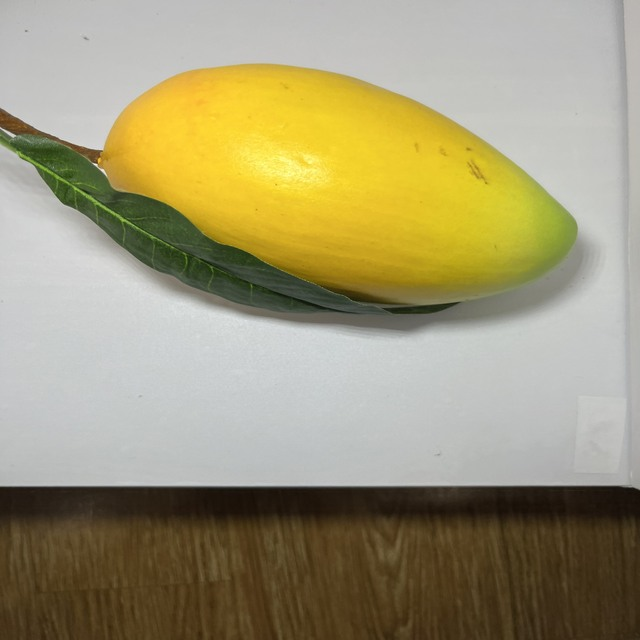Xoai: (83, 57, 591, 310)
